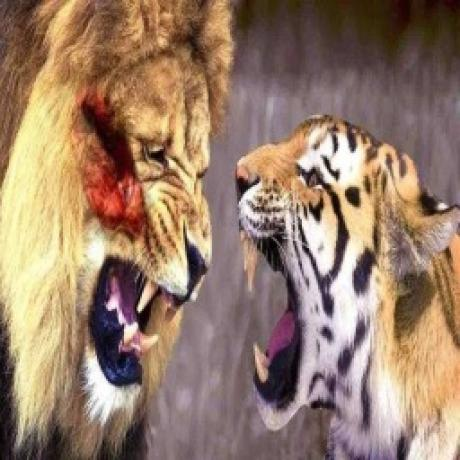Lion: (0, 0, 234, 460)
